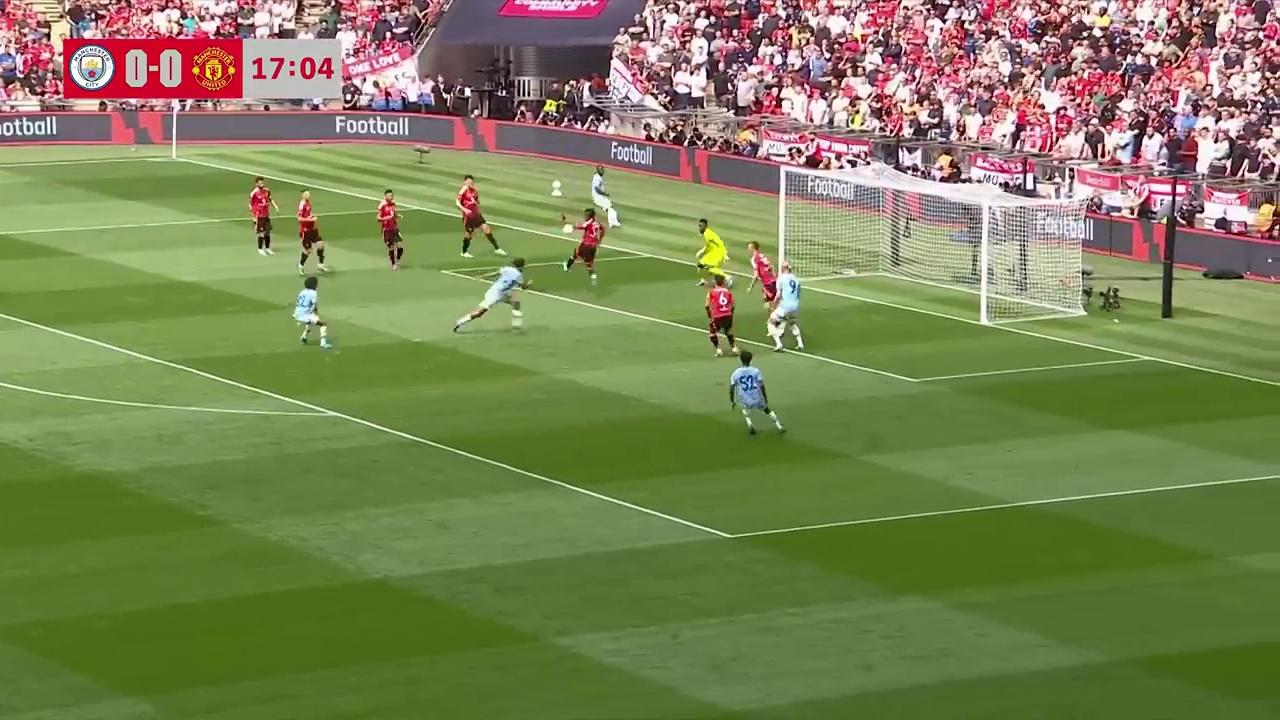ball: (563, 219, 573, 236)
player: (454, 261, 526, 332), (726, 351, 786, 435), (292, 274, 334, 349), (456, 175, 494, 252), (772, 264, 805, 352), (564, 212, 604, 282), (296, 189, 328, 275), (704, 276, 737, 357), (248, 177, 279, 255), (694, 218, 729, 286), (376, 189, 403, 269), (750, 245, 777, 314), (748, 242, 774, 302), (590, 167, 614, 221), (593, 191, 620, 232)
